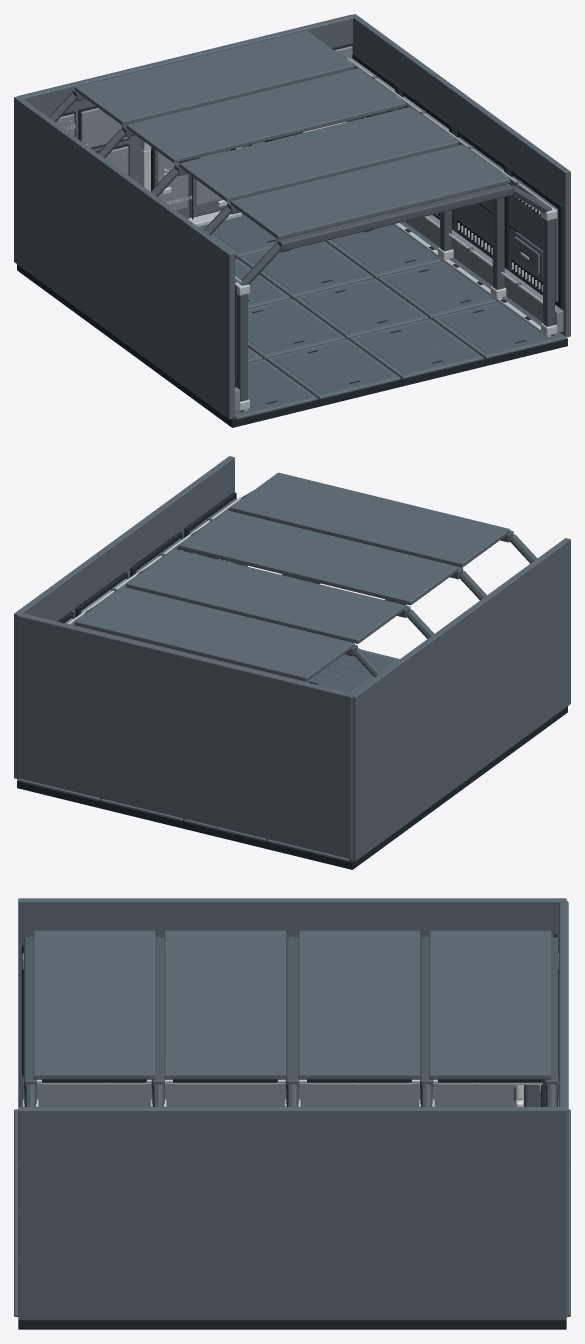
File: shell-standard.glb
3 views of the same model, one above another, from view 1: azimuth 30°, elevation 25°; view 2: azimuth 150°, elevation 25°; view 3: azimuth 270°, elevation 25° (orthographic). The views are drawn at different scales.
Parts seen in each view (by area): view 1: shell__Graphite enamel, shell__Anodized deck alloy, shell__Coated pressure frame, shell__Recess and gasket, shell__Recessed titanium panels, shell__Satin aluminium; view 2: shell__Graphite enamel, shell__Recess and gasket, shell__Coated pressure frame, shell__Anodized deck alloy, shell__Satin aluminium; view 3: shell__Graphite enamel, shell__Recessed titanium panels, shell__Coated pressure frame, shell__Recess and gasket, shell__Satin aluminium.
Part boxes in pixels (<box>): shell__Graphite enamel: <box>14,14,570,419</box>; shell__Anodized deck alloy: <box>203,213,559,413</box>; shell__Coated pressure frame: <box>48,49,554,411</box>; shell__Recess and gasket: <box>17,43,567,427</box>; shell__Recessed titanium panels: <box>56,46,563,411</box>; shell__Satin aluminium: <box>70,52,557,411</box>; shell__Graphite enamel: <box>14,456,570,861</box>; shell__Recess and gasket: <box>17,492,567,869</box>; shell__Coated pressure frame: <box>76,490,537,682</box>; shell__Anodized deck alloy: <box>308,652,393,692</box>; shell__Satin aluminium: <box>68,497,407,643</box>; shell__Graphite enamel: <box>14,898,570,1319</box>; shell__Recessed titanium panels: <box>23,1079,558,1106</box>; shell__Coated pressure frame: <box>23,936,558,1106</box>; shell__Recess and gasket: <box>18,934,566,1329</box>; shell__Satin aluminium: <box>22,953,558,1106</box>.
Size of the model in its own units: 8.24 by 4.04 by 9.14.
